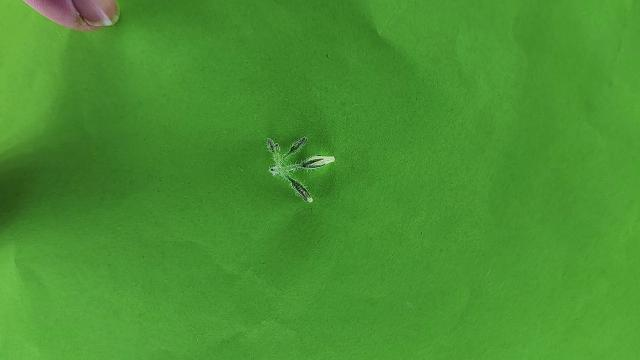Flower Bud: (286, 176, 313, 203), (300, 155, 335, 169), (286, 136, 307, 156)
